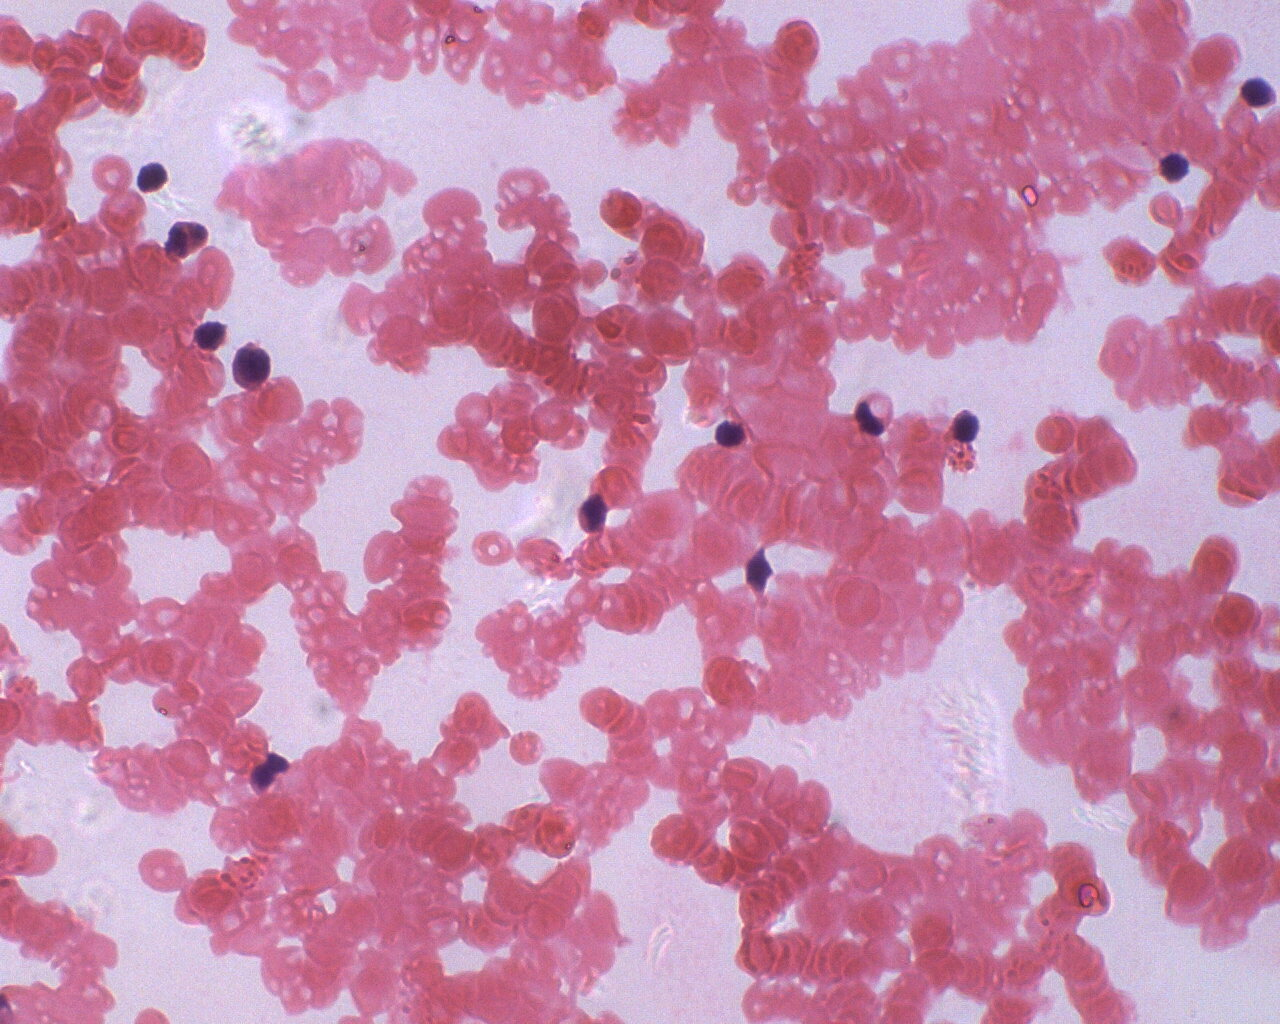lymph: (229, 343, 277, 390), (134, 155, 174, 197), (1235, 74, 1280, 110), (949, 405, 984, 447), (711, 417, 750, 453), (1156, 150, 1196, 185)
